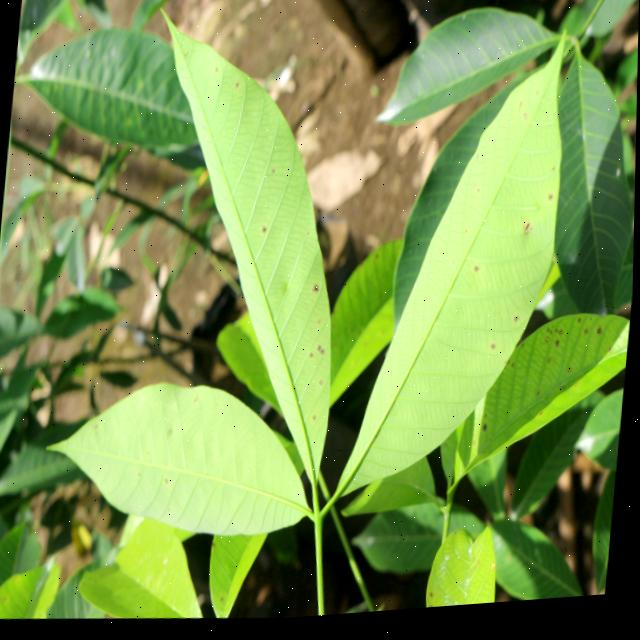Colletotrichum: (547, 345, 551, 351)
